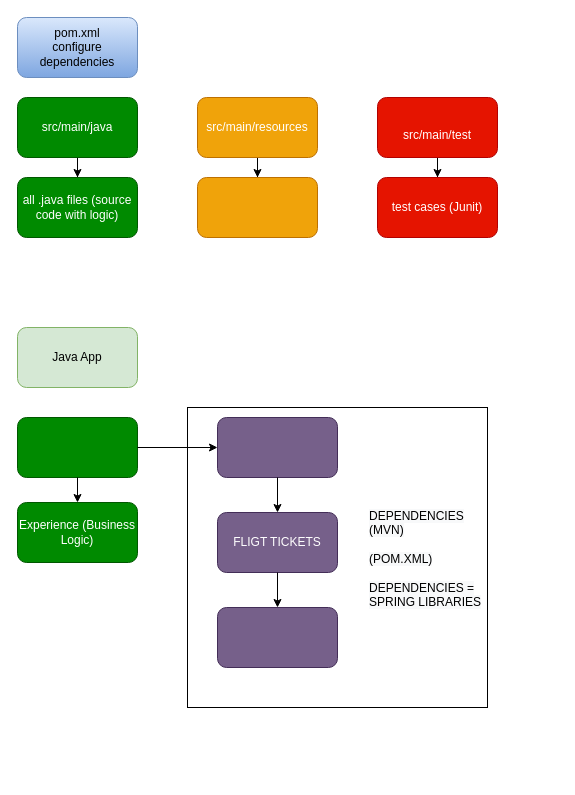
Image size: 575x795. Some labels were removed from this diagram. Each missing label, with the centre of its shape:
"Booking a Resort" goes at pixel 277 447.
"Guest (App)" goes at pixel 77 447.
"LOGISTIC ARRANEMENT" goes at pixel 277 637.
"property files/ config files" goes at pixel 257 207.
